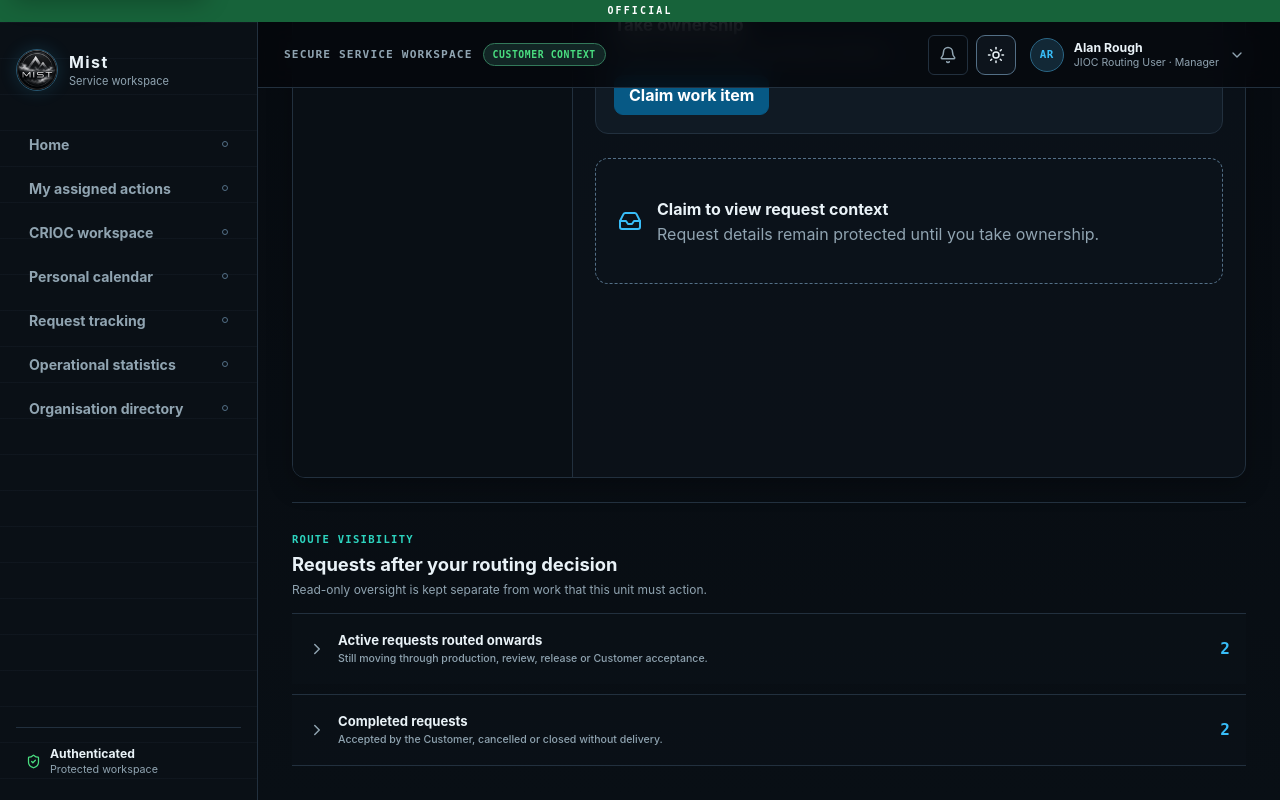
routing organisation workspace › separates action work from collapsed active and completed route monitoring
(page scrolled)
Expected: the heading that starts with "Completed requests" shows "2", 308,713 -> 1230,746
Step 1. Click the heading "Active requests routed onwards" → click(440, 640), box 308,632 -> 1230,665
(page scrolled)
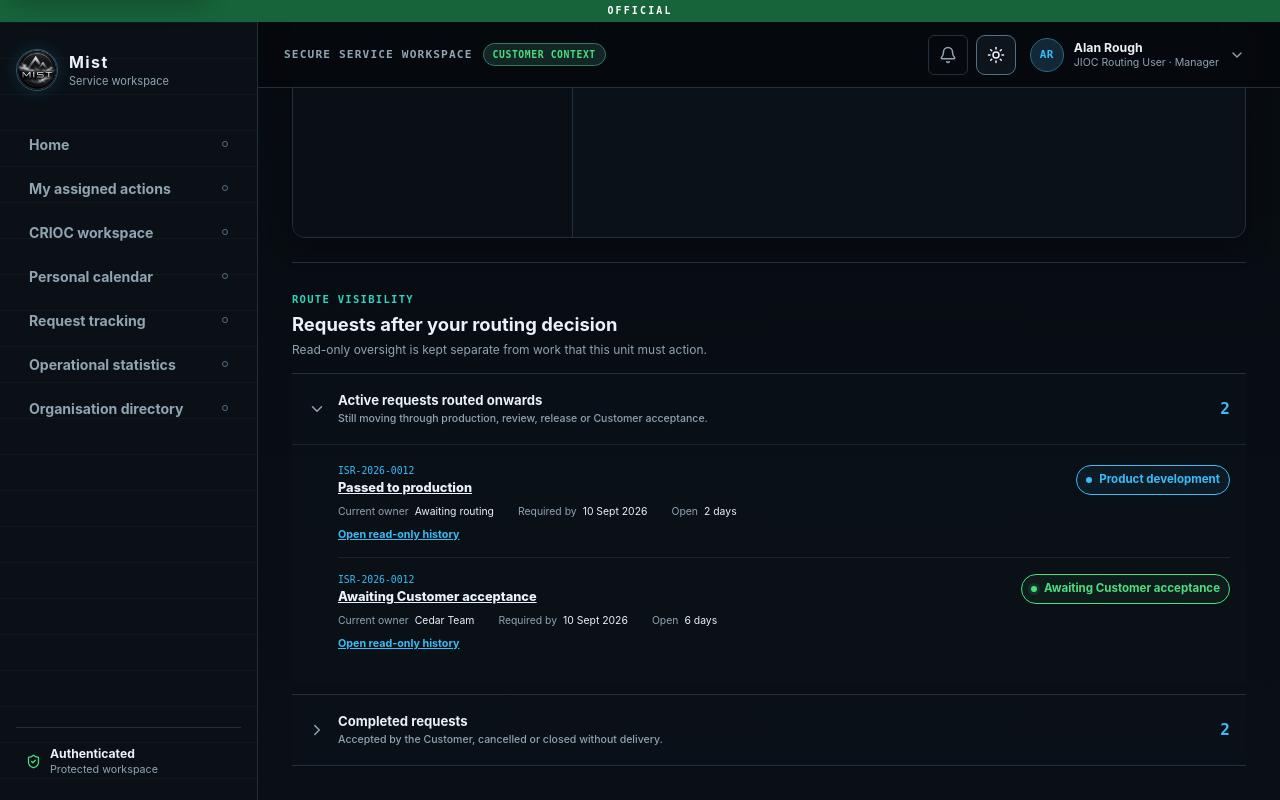
Result: the link "Passed to production" is shown at 338,480 -> 472,495
Result: the text "Awaiting routing" is shown at 415,505 -> 494,518
Result: the text "2 days" is shown at 704,505 -> 737,518
Step 2. Click the heading that starts with "Completed requests" → click(403, 721), box 308,713 -> 1230,746
(page scrolled)
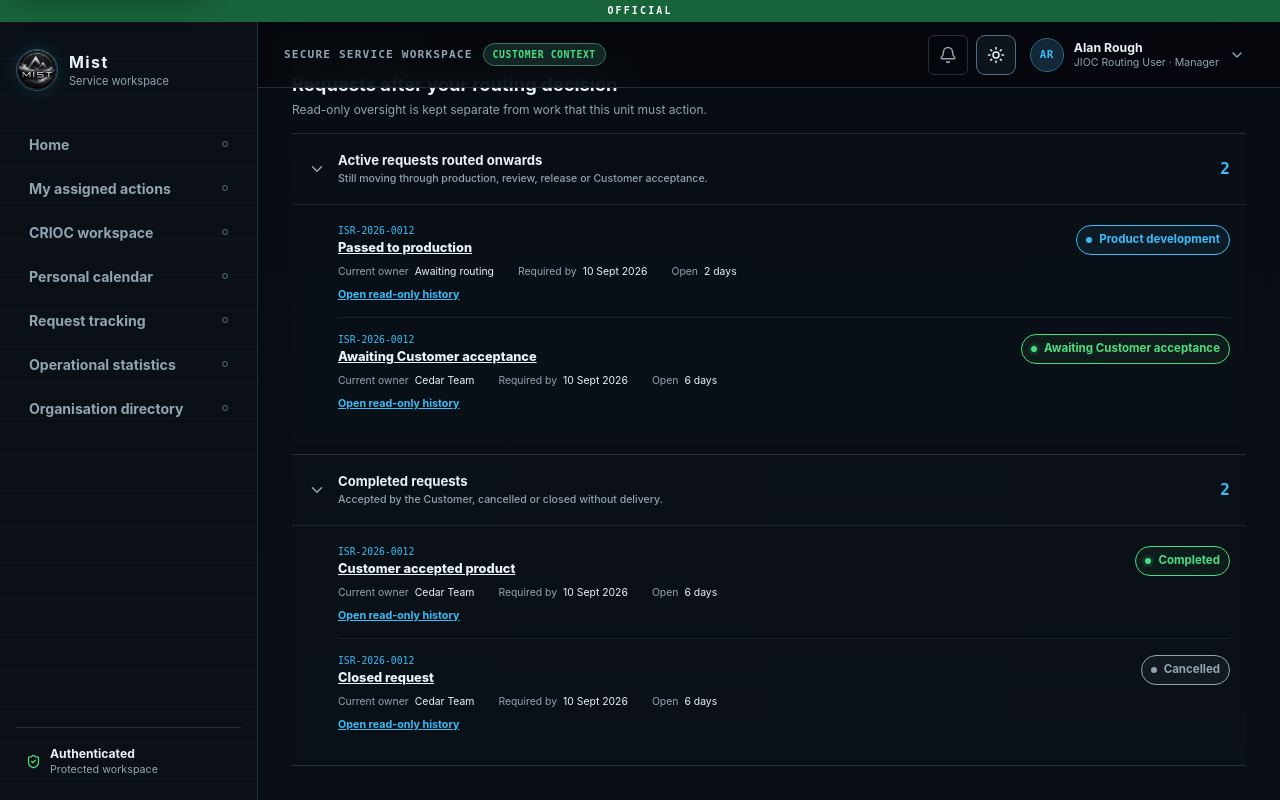
Result: the link "Customer accepted product" is shown at 338,561 -> 515,576
Result: the link "Closed request" is shown at 338,670 -> 434,685
